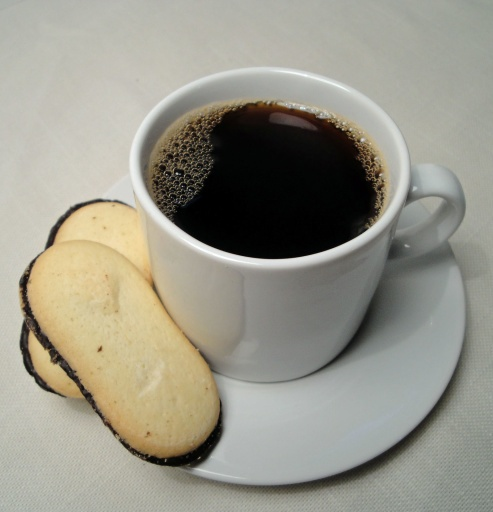background: (13, 158, 172, 373), (111, 78, 300, 207)
